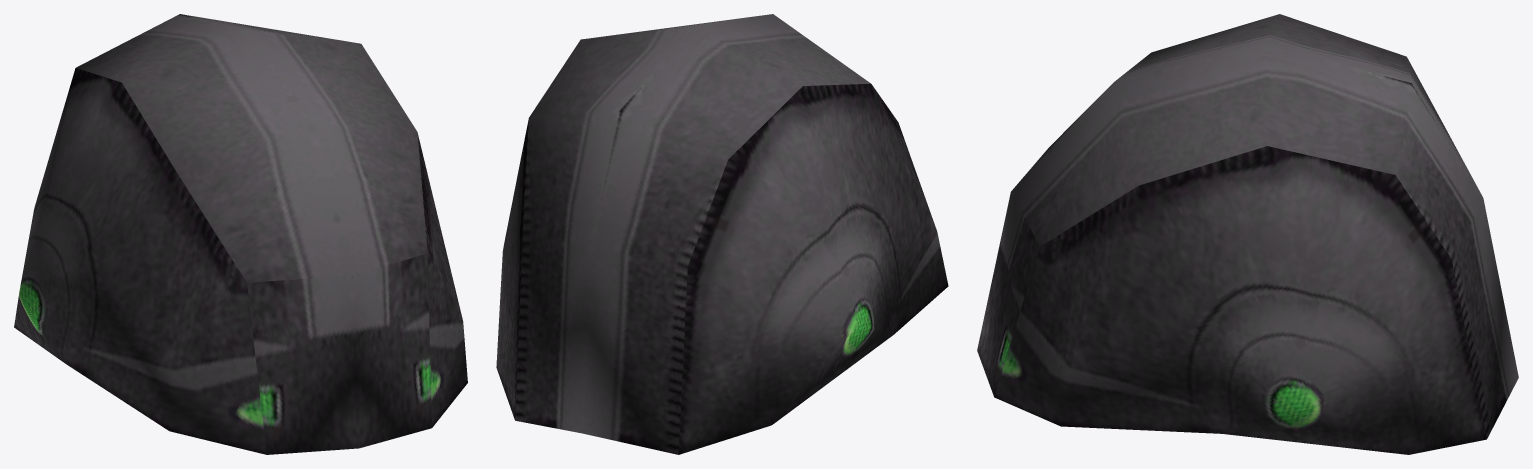
The model's file is Helmet5__VTX.glb.
3 views of the same model, side by side, from view 1: azimuth 30°, elevation 25°; view 2: azimuth 150°, elevation 25°; view 3: azimuth 270°, elevation 25° (orthographic). The views are drawn at different scales.
Parts seen in each view (by area): view 1: Helmet5; view 2: Helmet5; view 3: Helmet5.
Part boxes in pixels (x1,y1,x2,y2): Helmet5: (14, 14, 467, 454); Helmet5: (496, 14, 948, 454); Helmet5: (977, 14, 1518, 454).
Size of the model in its own units: 12.59 by 11.15 by 15.37.
Materials: 1 (1 with a texture image).
